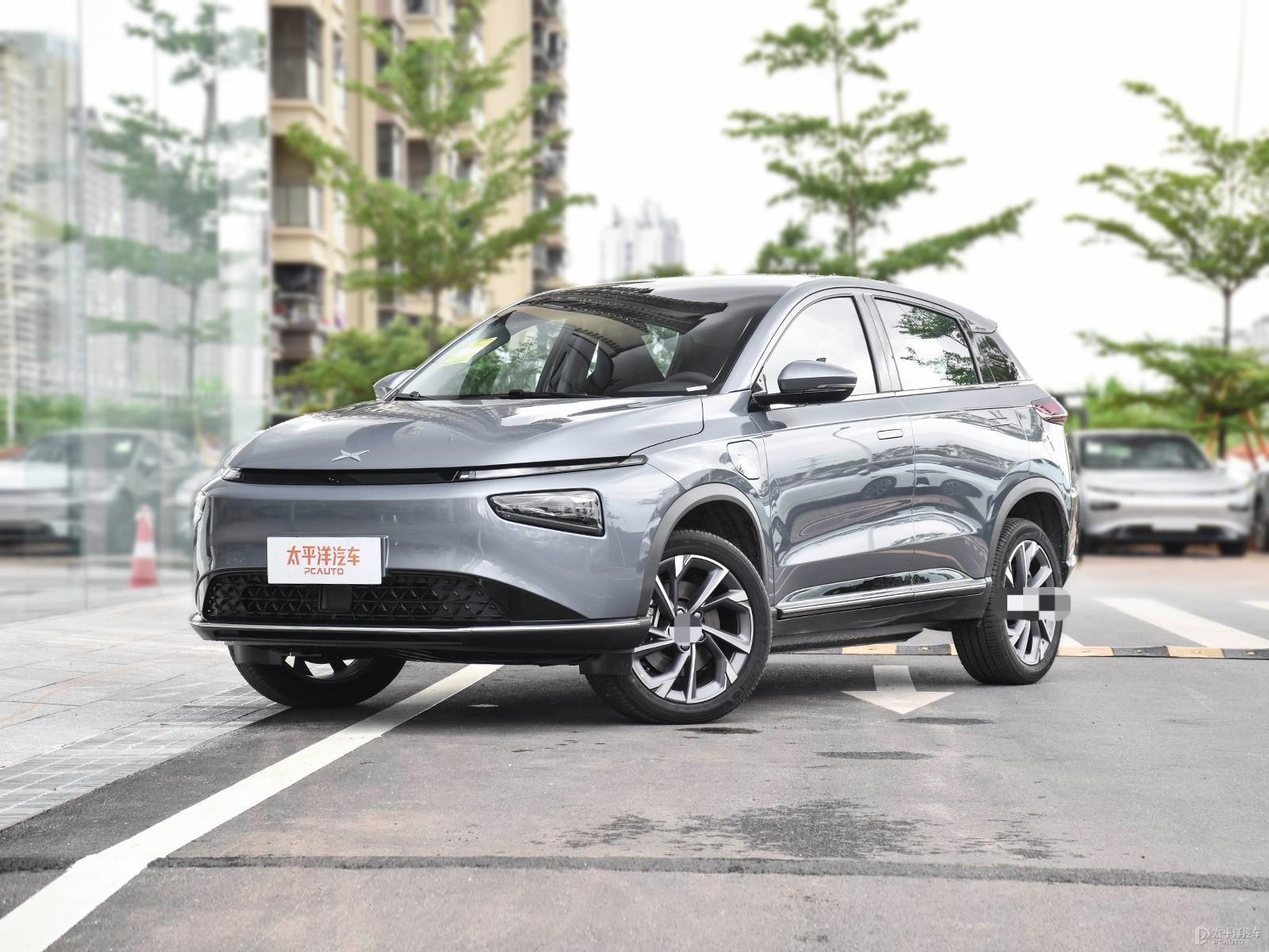XPeng Motors: (332, 450, 369, 462)
